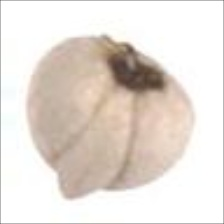L5: (50, 82, 139, 203), (98, 32, 169, 95)
L6: (24, 32, 197, 203)
